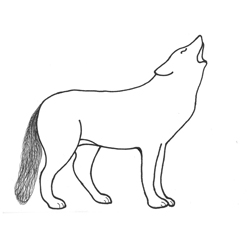Lobo: (10, 23, 212, 219)
